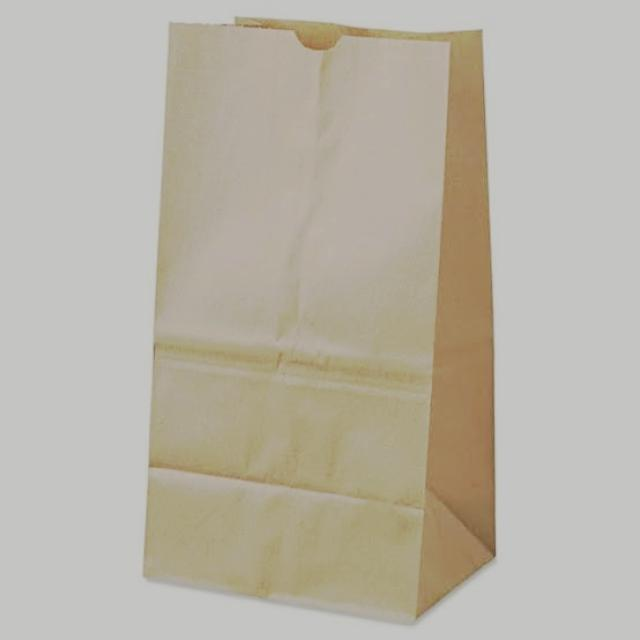paper: (138, 12, 520, 636)
